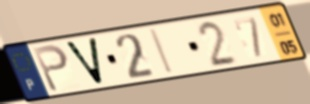2: (196, 19, 240, 69), (114, 31, 157, 81)
7: (233, 15, 264, 59)
I: (149, 27, 177, 76)
P: (30, 42, 71, 95)
V: (62, 36, 107, 88)
